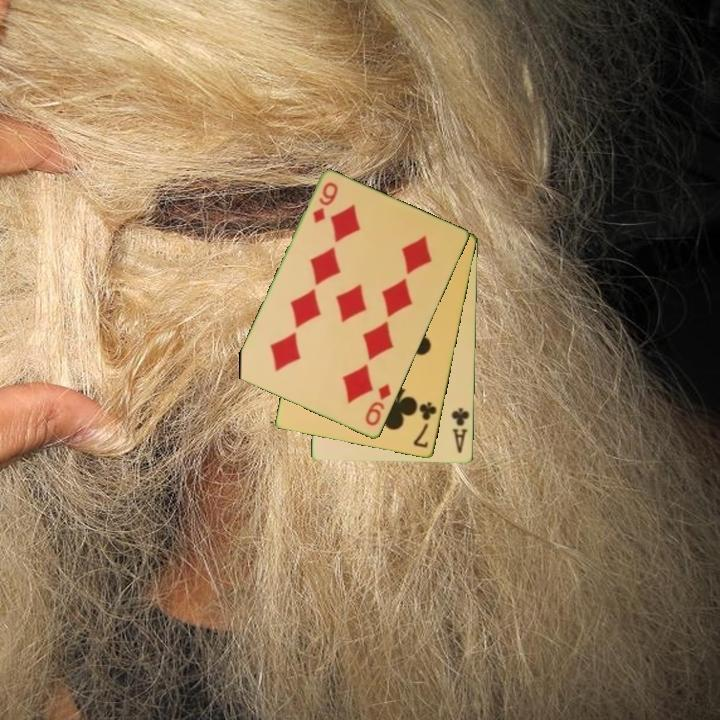7c: (410, 398, 440, 451)
9d: (362, 380, 394, 429), (309, 179, 341, 227)
Ac: (449, 404, 472, 456)
